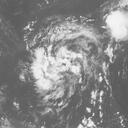cyclone: (29, 21, 101, 105), (107, 8, 127, 38)
